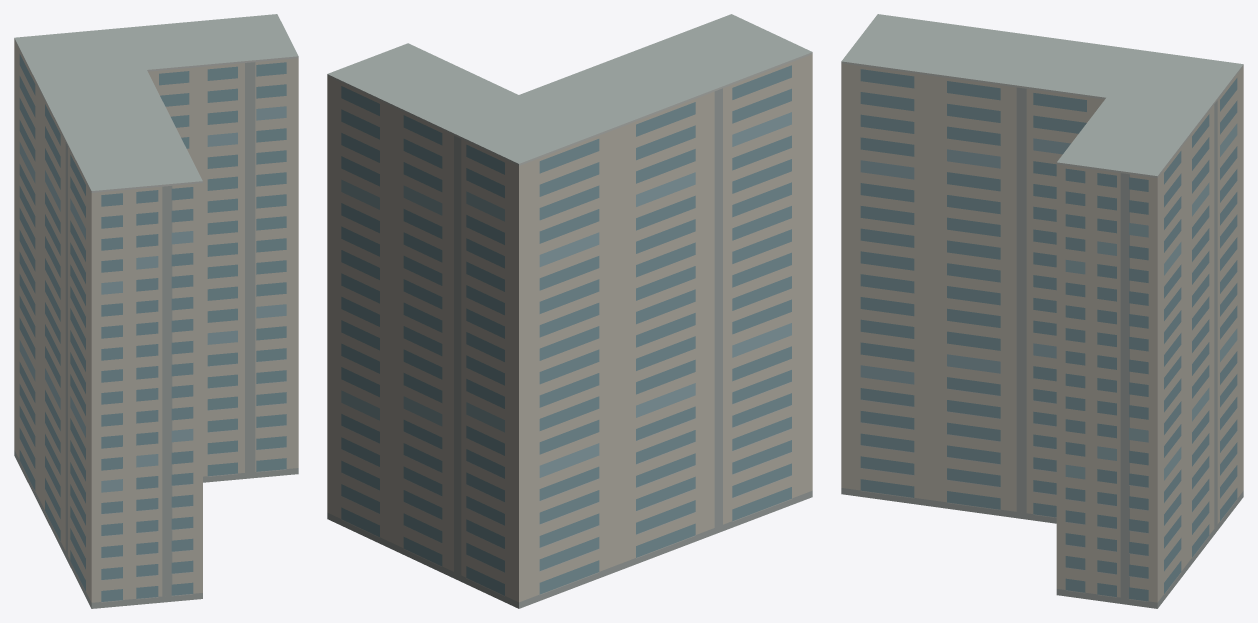
File: residential-f22fed3a-963d-47c2-acad-0336c73c8168.glb
The picture shows the model from 3 angles, left to right: view 1: azimuth 30°, elevation 25°; view 2: azimuth 150°, elevation 25°; view 3: azimuth 270°, elevation 25°; orthographic projection. The views are drawn at different scales.
Visible parts, largest first — view 1: residential-f22fed3a-963d-47c2-acad-0336c73c8168.tmp; view 2: residential-f22fed3a-963d-47c2-acad-0336c73c8168.tmp; view 3: residential-f22fed3a-963d-47c2-acad-0336c73c8168.tmp.
Part boxes in pixels (box(x1,y1,x2,y2)): residential-f22fed3a-963d-47c2-acad-0336c73c8168.tmp: box(14, 14, 298, 608); residential-f22fed3a-963d-47c2-acad-0336c73c8168.tmp: box(327, 14, 812, 608); residential-f22fed3a-963d-47c2-acad-0336c73c8168.tmp: box(841, 14, 1243, 608).
Size of the model in its own units: 43.4 by 54 by 45.5.
